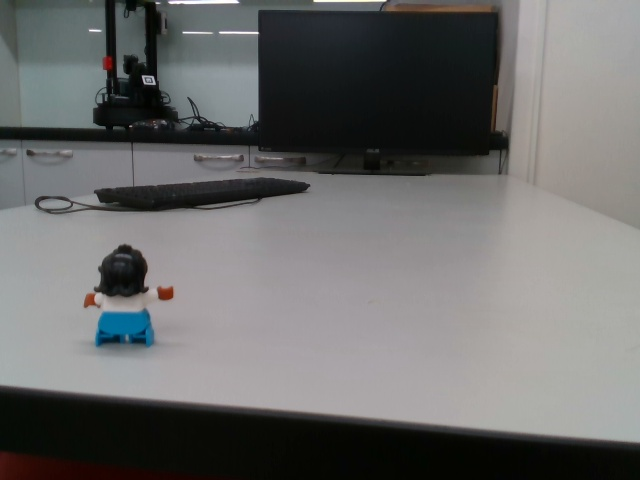people: (81, 240, 179, 349)
